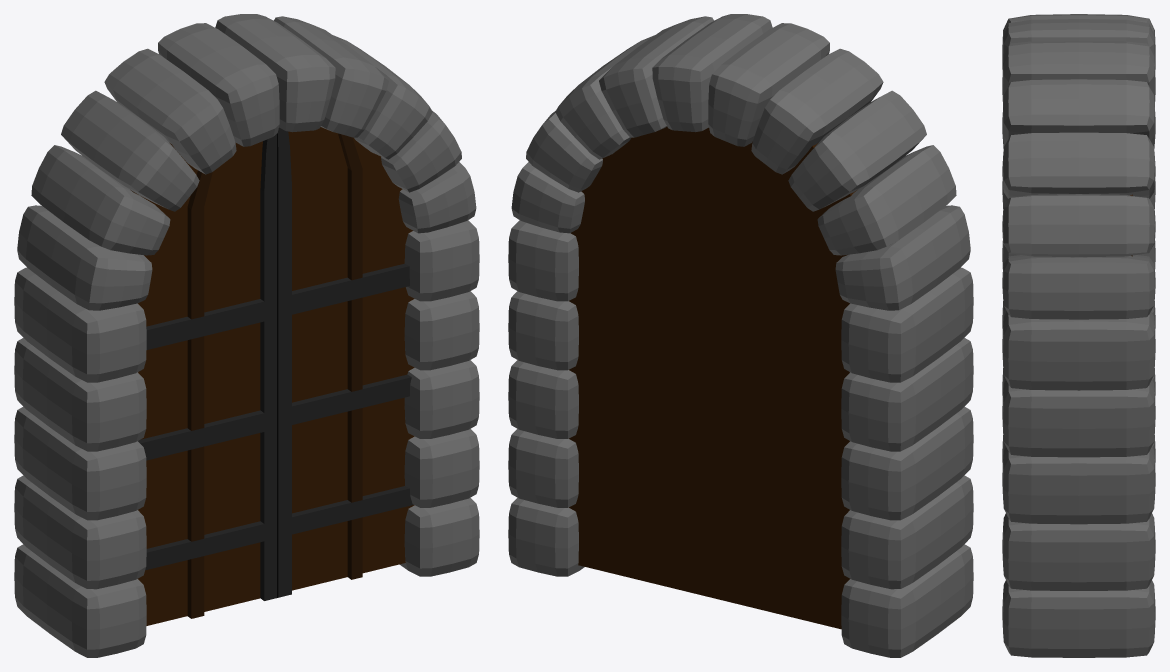
File: door_tpv2.fbx
3 views of the same model, side by side, from view 1: azimuth 30°, elevation 25°; view 2: azimuth 150°, elevation 25°; view 3: azimuth 270°, elevation 25° (orthographic). The views are drawn at different scales.
Parts seen in each view (by area): view 1: Circle, Cube.007, Cube.002, Cube.006; view 2: Circle, Cube.007, Cube.002, Cube.006; view 3: Cube.006, Cube.007, Cube.002.
Boxes of the visible parts, x1=… form: Circle: x1=131, y1=127, x2=414, y2=625; Cube.007: x1=17, y1=14, x2=476, y2=310; Cube.002: x1=14, y1=267, x2=146, y2=657; Cube.006: x1=399, y1=220, x2=479, y2=576; Circle: x1=569, y1=126, x2=856, y2=629; Cube.007: x1=511, y1=14, x2=970, y2=310; Cube.002: x1=841, y1=267, x2=973, y2=657; Cube.006: x1=508, y1=220, x2=584, y2=576; Cube.006: x1=1002, y1=311, x2=1155, y2=657; Cube.007: x1=1002, y1=14, x2=1155, y2=319; Cube.002: x1=1002, y1=181, x2=1155, y2=465.
Size of the model in its own units: 1158 by 1514 by 396.
